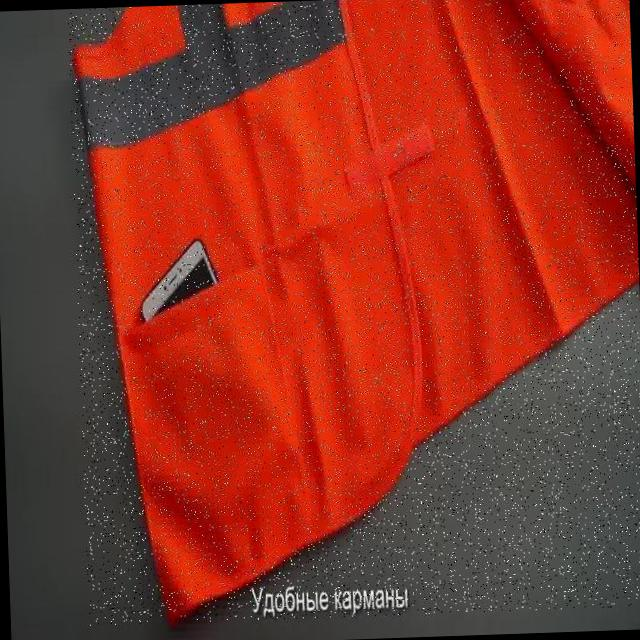vest: (67, 0, 640, 625)
